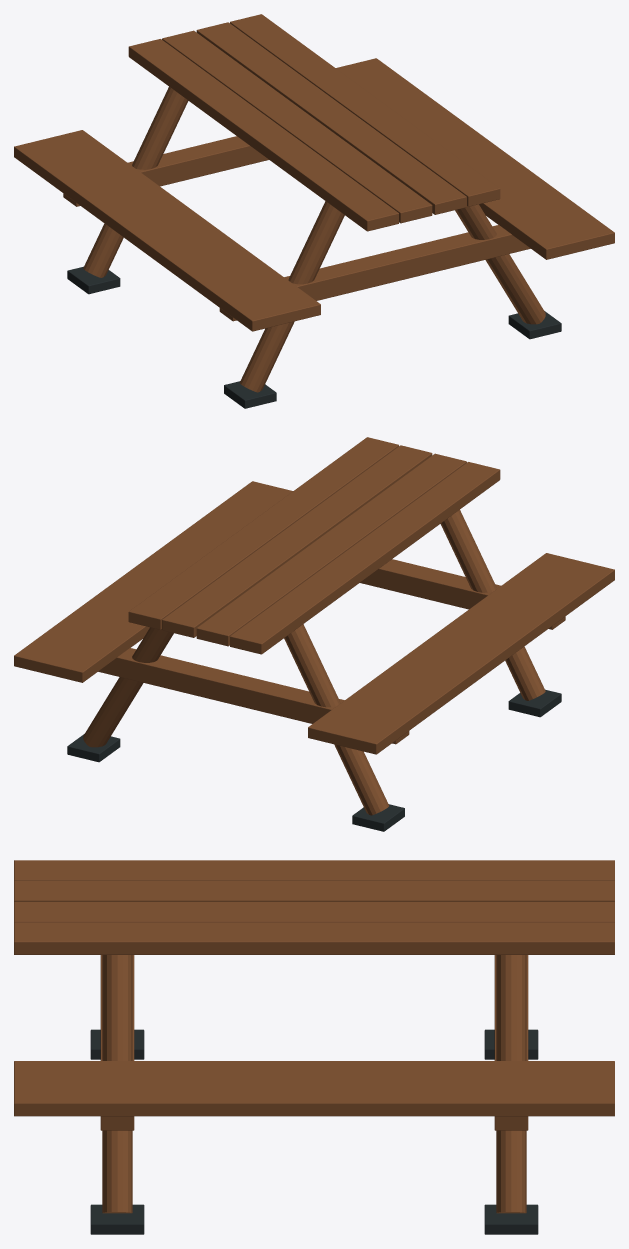
Rendered from picnic-table.glb.
3 views of the same model, one above another, from view 1: azimuth 30°, elevation 25°; view 2: azimuth 150°, elevation 25°; view 3: azimuth 270°, elevation 25° (orthographic). The views are drawn at different scales.
Parts seen in each view (by area): view 1: Fixed_Bench, Fixed_Bench.001, Table_Plank, Table_Plank.002, Table_Plank.003, Table_Plank.001, Bench_Bearer.001, A_Frame_Leg.001, Bench_Bearer, A_Frame_Leg.003, A_Frame_Leg.002, Foot_Pad.001 (+2 smaller); view 2: Fixed_Bench, Fixed_Bench.001, Table_Plank, Table_Plank.002, Table_Plank.003, Table_Plank.001, Bench_Bearer, A_Frame_Leg.003, Bench_Bearer.001, A_Frame_Leg.001, A_Frame_Leg, Foot_Pad (+2 smaller); view 3: Fixed_Bench.001, Table_Plank.003, Table_Plank.001, Table_Plank, Table_Plank.002, A_Frame_Leg.002, A_Frame_Leg, Foot_Pad.002, Foot_Pad.003, Bench_Bearer, Bench_Bearer.001, Foot_Pad (+1 smaller).
Boxes of the visible parts, x1,y1,x2,y2 form: Fixed_Bench: [14, 130, 320, 331]; Fixed_Bench.001: [336, 58, 614, 259]; Table_Plank: [128, 39, 398, 231]; Table_Plank.002: [196, 22, 466, 214]; Table_Plank.003: [230, 14, 500, 206]; Table_Plank.001: [162, 30, 432, 223]; Bench_Bearer.001: [219, 225, 530, 321]; A_Frame_Leg.001: [239, 201, 344, 392]; Bench_Bearer: [63, 136, 268, 206]; A_Frame_Leg.003: [83, 86, 188, 277]; A_Frame_Leg.002: [455, 204, 545, 324]; Foot_Pad.001: [67, 266, 120, 294]; Fixed_Bench: [308, 553, 614, 754]; Fixed_Bench.001: [14, 481, 292, 682]; Table_Plank: [230, 462, 500, 654]; Table_Plank.002: [162, 445, 432, 637]; Table_Plank.003: [128, 437, 398, 629]; Table_Plank.001: [196, 453, 466, 646]; Bench_Bearer: [98, 648, 409, 744]; A_Frame_Leg.003: [284, 624, 389, 815]; Bench_Bearer.001: [360, 559, 565, 629]; A_Frame_Leg.001: [440, 509, 545, 700]; A_Frame_Leg: [83, 627, 173, 747]; Foot_Pad: [508, 689, 561, 717]; Fixed_Bench.001: [14, 1061, 614, 1116]; Table_Plank.003: [14, 922, 614, 954]; Table_Plank.001: [14, 880, 614, 901]; Table_Plank: [14, 860, 614, 880]; Table_Plank.002: [14, 902, 614, 922]; A_Frame_Leg.002: [102, 955, 132, 1213]; A_Frame_Leg: [496, 955, 526, 1213]; Foot_Pad.002: [90, 1204, 144, 1234]; Foot_Pad.003: [484, 1204, 538, 1234]; Bench_Bearer: [494, 955, 528, 1130]; Bench_Bearer.001: [100, 955, 134, 1130]; Foot_Pad: [90, 1029, 144, 1059].
Bounding box in the file's own units: 1.58 × 0.7825 × 1.8.
